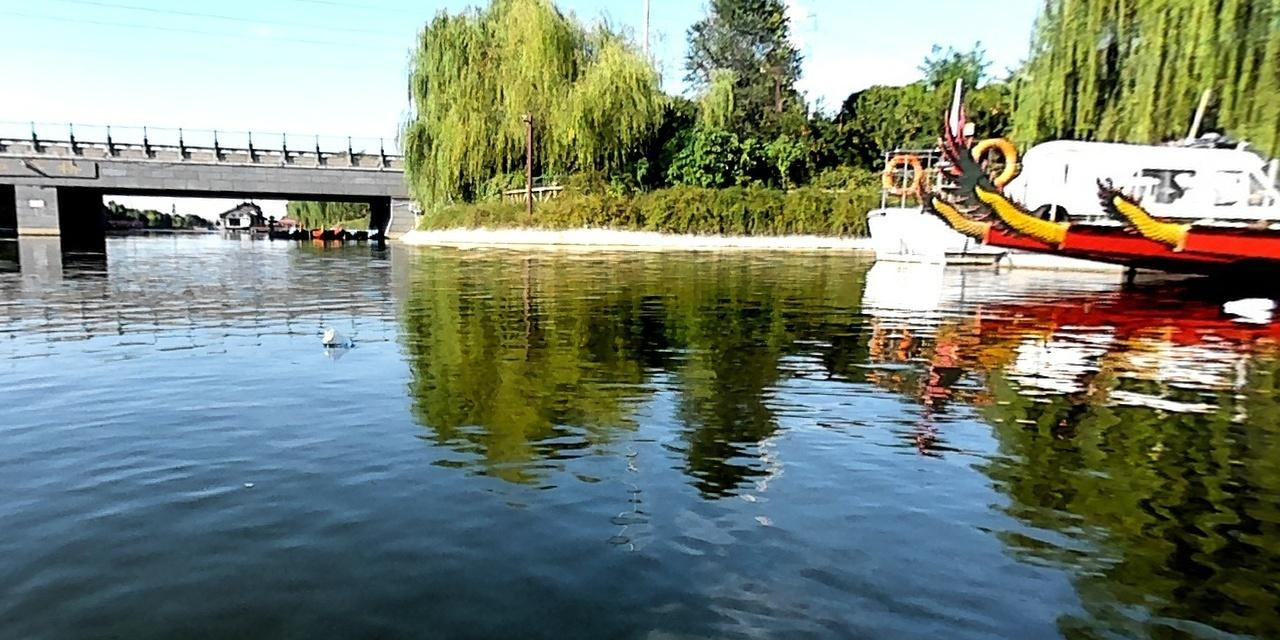bottle: (1222, 294, 1274, 314), (320, 329, 348, 345)
